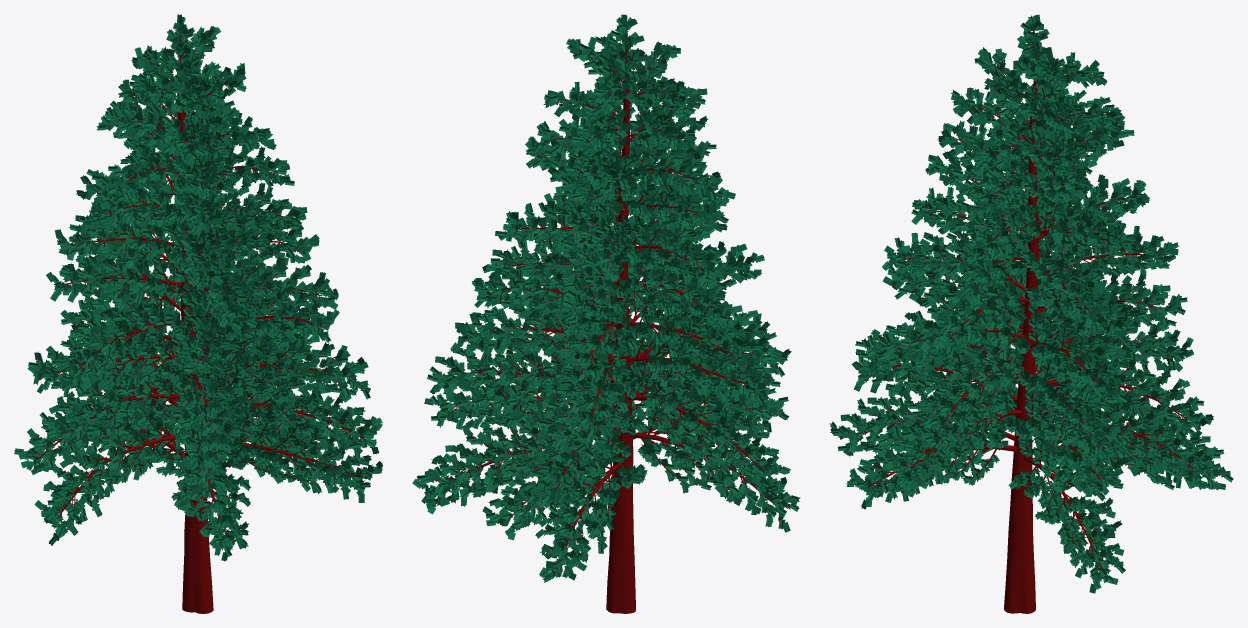
Rendered from Treewithleaves.fbx.
3 views of the same model, side by side, from view 1: azimuth 30°, elevation 25°; view 2: azimuth 150°, elevation 25°; view 3: azimuth 270°, elevation 25° (orthographic). The views are drawn at different scales.
Parts seen in each view (by area): view 1: Foliage002; view 2: Foliage002; view 3: Foliage002.
Part boxes in pixels (x1,y1,x2,y2): Foliage002: [14, 14, 382, 613]; Foliage002: [412, 14, 800, 613]; Foliage002: [829, 14, 1233, 613].
Bounding box in the file's own units: 423 × 709 × 441.
